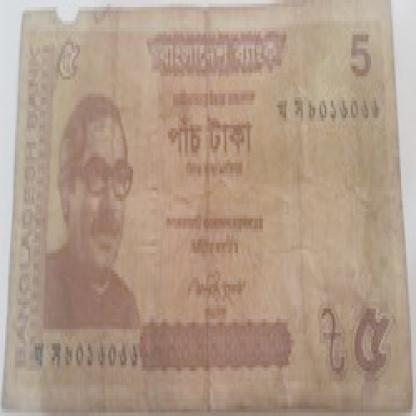Five Taka: (348, 298, 396, 395), (48, 35, 88, 86), (346, 18, 376, 84)
